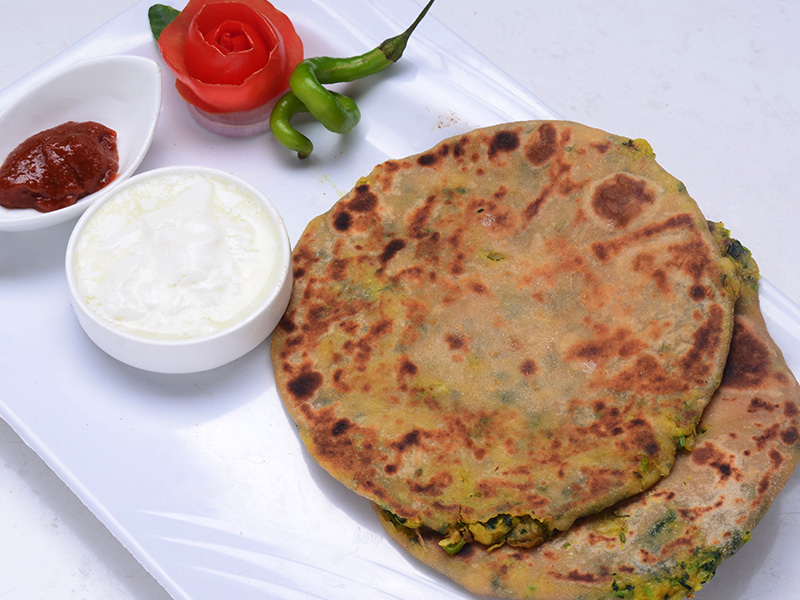aloo_paratha: (265, 119, 797, 600)
